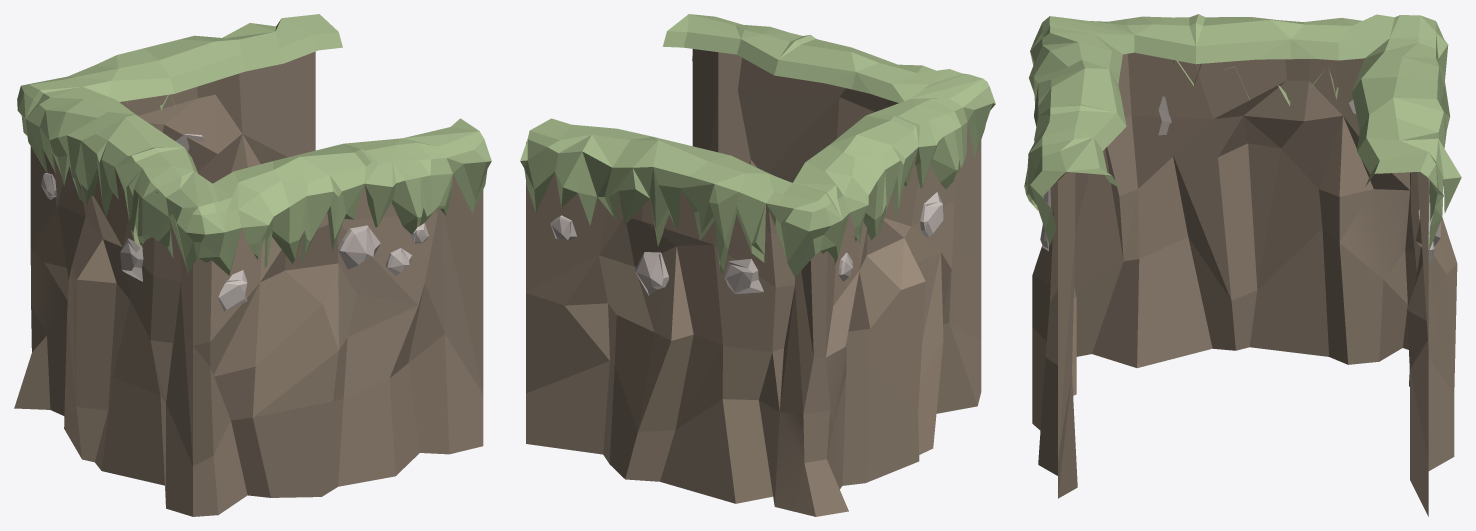
File: ER_Terrain_1x1_Grass3sided_001_B1.fbx
3 renders of one model, left to right at view 1: azimuth 30°, elevation 25°; view 2: azimuth 150°, elevation 25°; view 3: azimuth 270°, elevation 25°, orthographic. The views are drawn at different scales.
Visible parts, largest first — view 1: ER_Terrain_1x1_Grass3sided_001_B1; view 2: ER_Terrain_1x1_Grass3sided_001_B1; view 3: ER_Terrain_1x1_Grass3sided_001_B1.
Part boxes in pixels (x1,y1,x2,y2): ER_Terrain_1x1_Grass3sided_001_B1: [14, 14, 491, 516]; ER_Terrain_1x1_Grass3sided_001_B1: [520, 14, 995, 516]; ER_Terrain_1x1_Grass3sided_001_B1: [1024, 14, 1461, 516].
Bounding box in the file's own units: 1.11 × 1.06 × 1.18.
